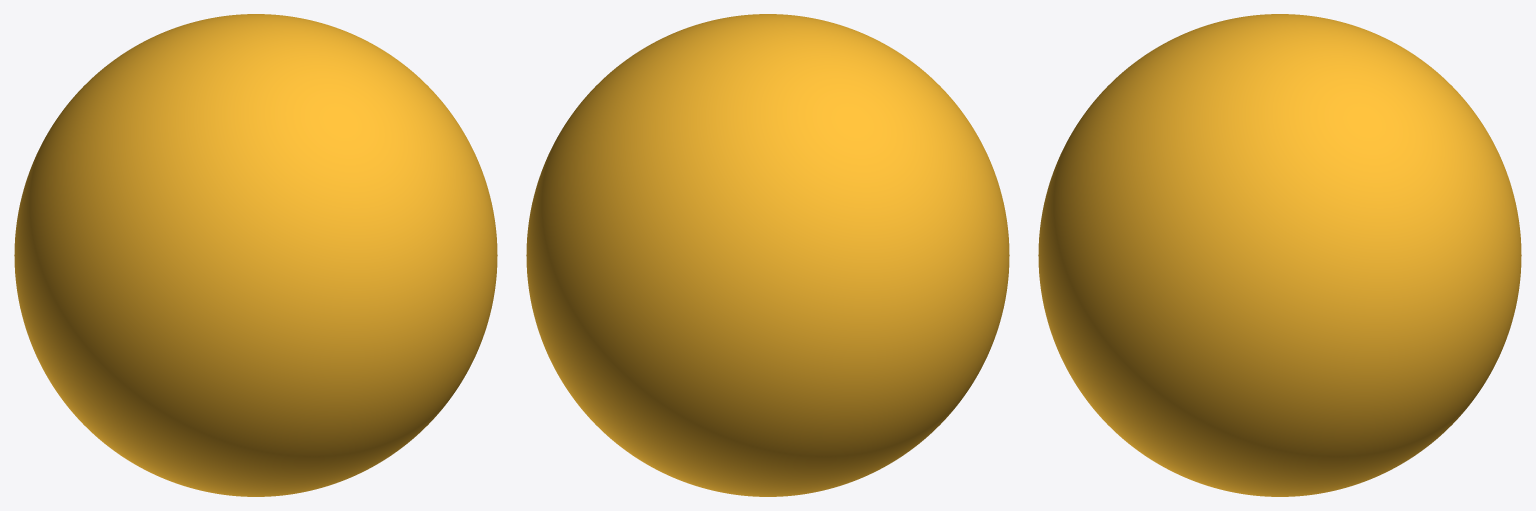
Rendered from sun.obj.
The picture shows the model from 3 angles, left to right: view 1: azimuth 30°, elevation 25°; view 2: azimuth 150°, elevation 25°; view 3: azimuth 270°, elevation 25°; orthographic projection.
Parts seen in each view (by area): view 1: Sun; view 2: Sun; view 3: Sun.
Part boxes in pixels (left/top/right/bottom): Sun: left=14, top=14, right=497, bottom=496; Sun: left=526, top=14, right=1009, bottom=496; Sun: left=1038, top=14, right=1521, bottom=496.
Bounding box in the file's own units: 40 × 40 × 40.
